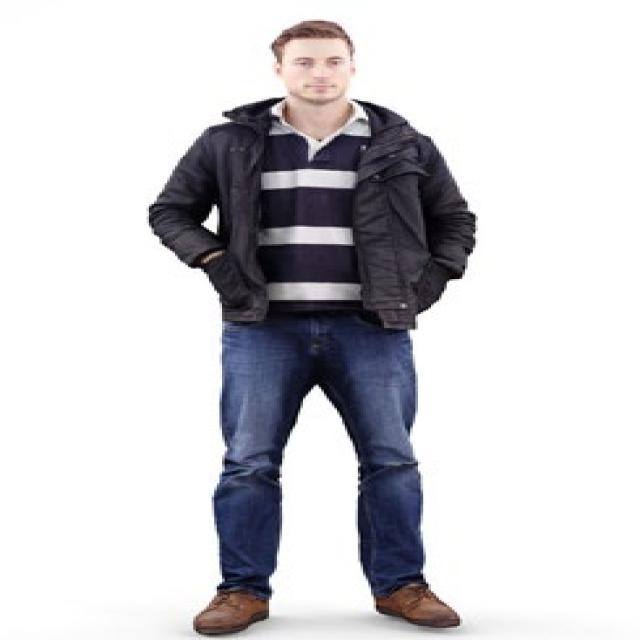standing: (138, 16, 484, 636)
